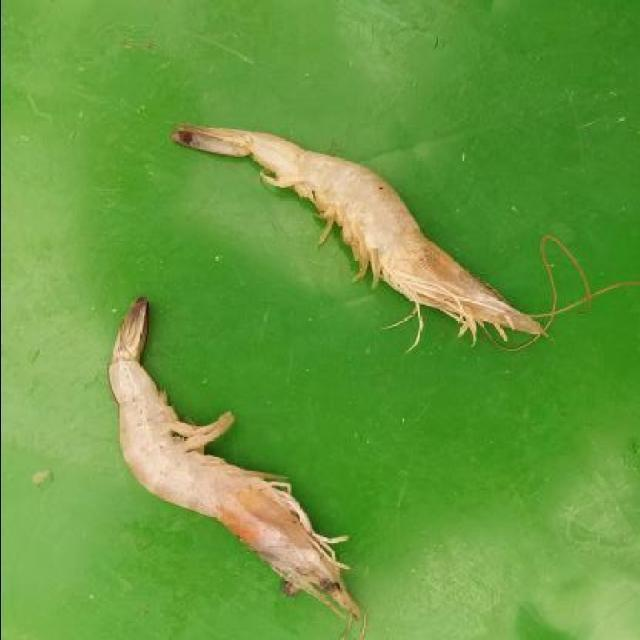shrimp: (102, 284, 379, 629), (165, 120, 567, 352)
